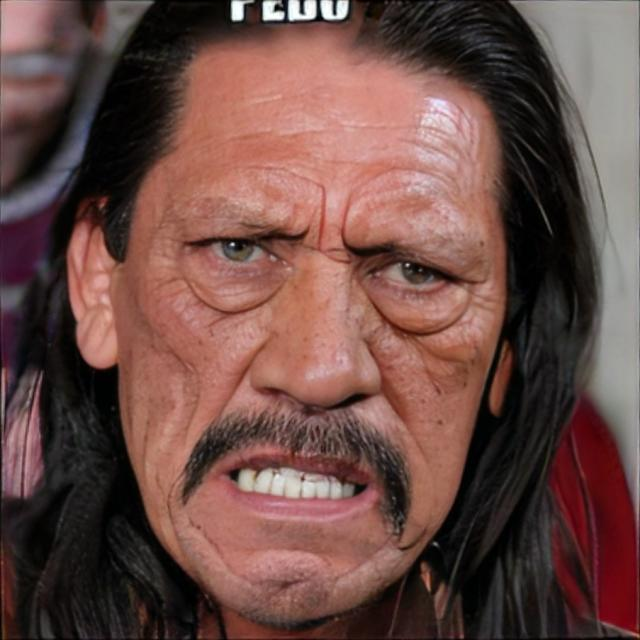anger: (124, 91, 500, 632)
